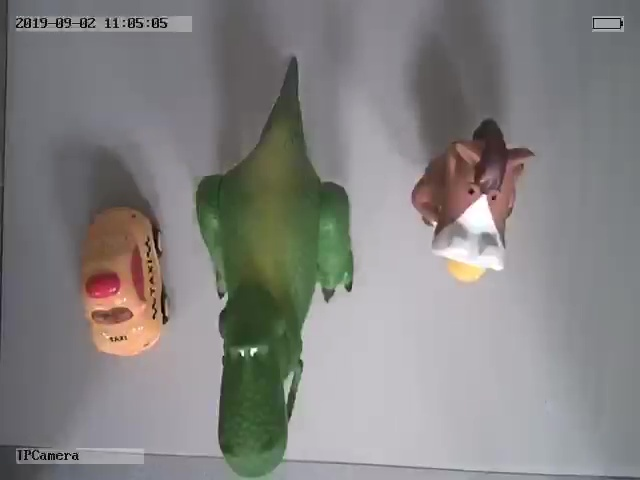car: (79, 206, 172, 357)
horse: (411, 119, 535, 285)
rex: (196, 80, 355, 478)
